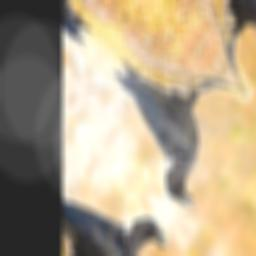Crow: (86, 12, 256, 214)
